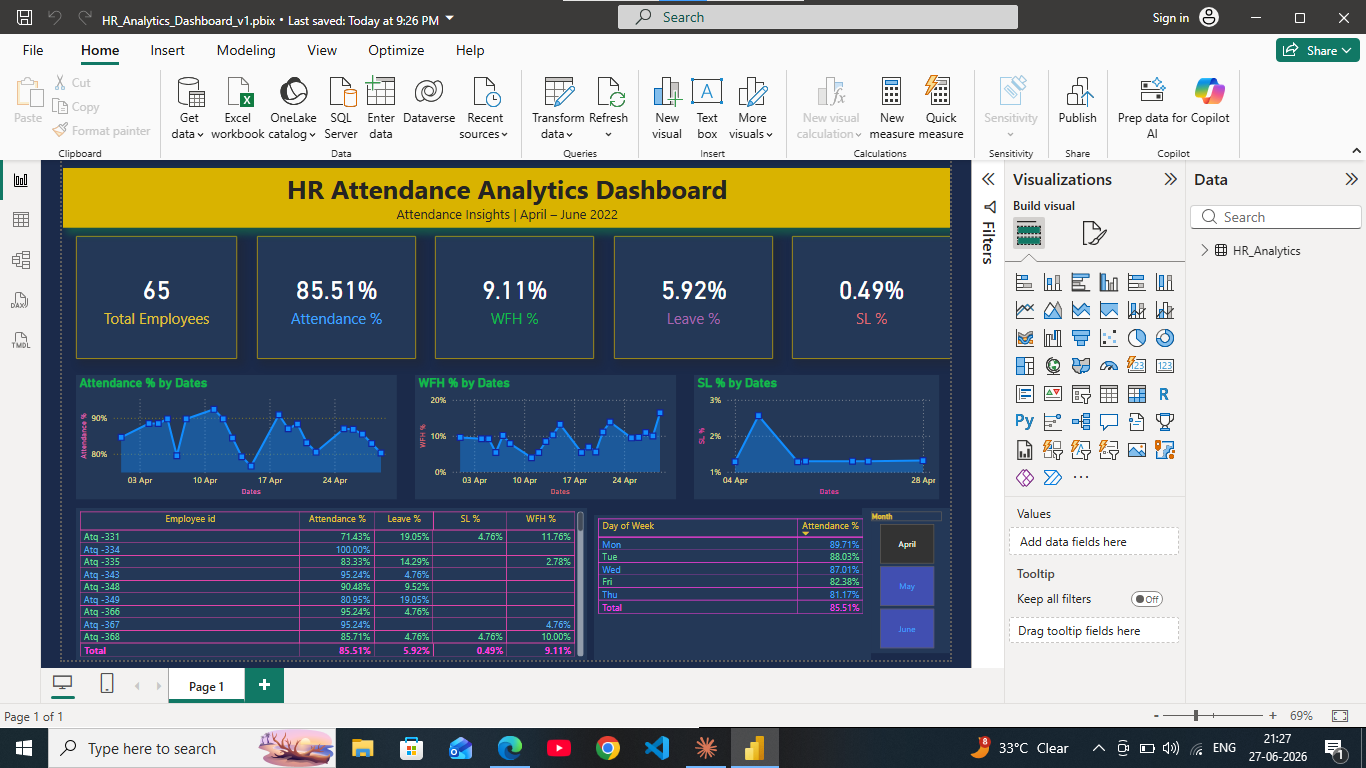

The dashboard page shown, as its layout file describes it:
{"tool":"powerbi","page":{"name":"Page 1","canvas":[1280,720],"ordinal":0},"visuals":[{"type":"card","fields":{"Values":["HR_Analytics.Total Employees"]},"box":[20.2,109.4,231.8,177.1],"z":0},{"type":"lineChart","fields":{"Y":["HR_Analytics.Attendance %"],"Category":["HR_Analytics.Dates"]},"box":[20.2,309.6,462.2,178.6],"z":1000},{"type":"lineChart","fields":{"Y":["HR_Analytics.WFH %"],"Category":["HR_Analytics.Dates"]},"box":[508.3,309.6,375.8,178.6],"z":2000},{"type":"lineChart","fields":{"Y":["HR_Analytics.SL %"],"Category":["HR_Analytics.Dates"]},"box":[910.1,309.6,352.8,178.6],"z":3000},{"type":"slicer","fields":{"Values":["HR_Analytics.Dates.Variation.Date Hierarchy.Month"]},"box":[1152,501.1,128.2,208.8],"z":4000},{"type":"tableEx","fields":{"Values":["HR_Analytics.Employee id","HR_Analytics.Attendance %","HR_Analytics.Leave %","HR_Analytics.SL %","HR_Analytics.WFH %","HR_Analytics.Present Days"]},"box":[20.2,501.1,735.8,218.9],"z":5000},{"type":"tableEx","fields":{"Values":["HR_Analytics.Day of Week","HR_Analytics.Attendance %"]},"box":[766.1,511.2,398.9,208.8],"z":6000},{"type":"card","fields":{"Values":["HR_Analytics.Attendance %"]},"box":[280.1,109.4,229,177.1],"z":7000},{"type":"card","fields":{"Values":["HR_Analytics.WFH %"]},"box":[537.1,109.4,229,177.1],"z":8000},{"type":"card","fields":{"Values":["HR_Analytics.Leave %"]},"box":[794.2,109.4,229,177.1],"z":9000},{"type":"card","fields":{"Values":["HR_Analytics.SL %"]},"box":[1051,109.4,229,177.1],"z":10000},{"type":"textbox","box":[1.4,11.5,1278.7,86.4],"z":11000}]}

Visuals, with their boxes on the page's 1280x720 design canvas (x1, y1, x2, y2). These are canvas units, not pixel positions in the 1366x768 screenshot, which may show the page scaled, cropped or inside an application window:
card - HR_Analytics.Total Employees: crop(20, 109, 252, 286)
lineChart - HR_Analytics.Attendance % x HR_Analytics.Dates: crop(20, 310, 482, 488)
lineChart - HR_Analytics.WFH % x HR_Analytics.Dates: crop(508, 310, 884, 488)
lineChart - HR_Analytics.SL % x HR_Analytics.Dates: crop(910, 310, 1263, 488)
slicer - HR_Analytics.Dates.Variation.Date Hierarchy.Month: crop(1152, 501, 1280, 710)
tableEx - HR_Analytics.Employee id x HR_Analytics.Attendance %: crop(20, 501, 756, 720)
tableEx - HR_Analytics.Day of Week x HR_Analytics.Attendance %: crop(766, 511, 1165, 720)
card - HR_Analytics.Attendance %: crop(280, 109, 509, 286)
card - HR_Analytics.WFH %: crop(537, 109, 766, 286)
card - HR_Analytics.Leave %: crop(794, 109, 1023, 286)
card - HR_Analytics.SL %: crop(1051, 109, 1280, 286)
textbox: crop(1, 12, 1280, 98)
